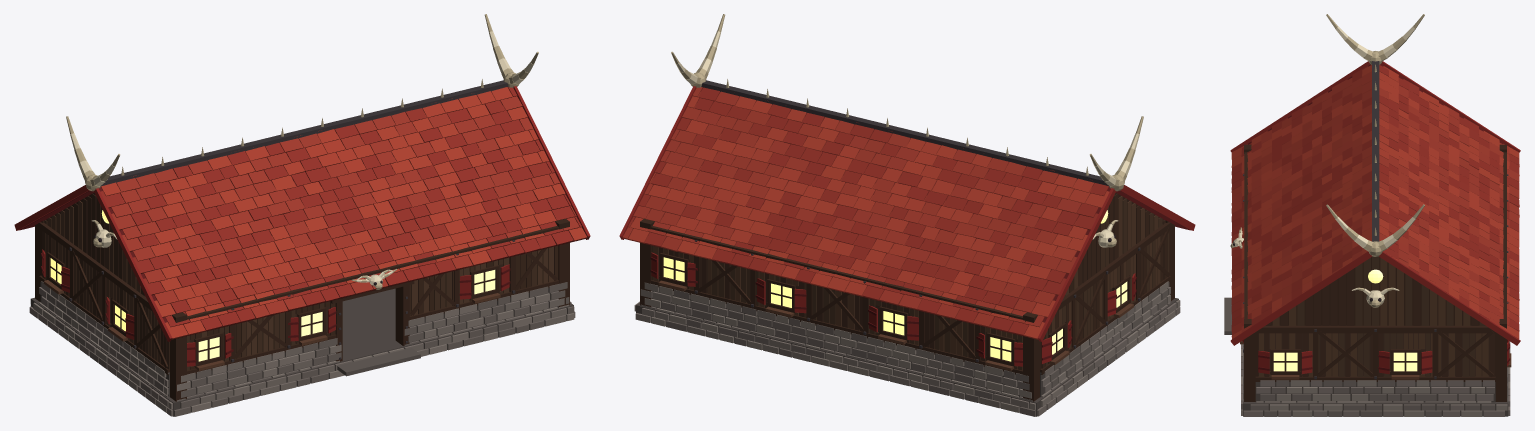
Rendered from house_war.glb.
The picture shows the model from 3 angles, left to right: view 1: azimuth 30°, elevation 25°; view 2: azimuth 150°, elevation 25°; view 3: azimuth 270°, elevation 25°; orthographic projection. The views are drawn at different scales.
Parts seen in each view (by area): view 1: war_roof, war_S_hi, war_base, war_S_lo, war_W_hi, war_W_lo; view 2: war_roof, war_N_hi, war_N_lo, war_base, war_W_hi, war_W_lo; view 3: war_roof, war_E_hi, war_E_lo, war_base, war_S_hi, war_N_hi, war_S_lo, war_N_lo.
Boxes of the visible parts, left/top/right/bottom form: war_roof: left=14, top=14, right=590, bottom=341; war_S_hi: left=169, top=218, right=569, bottom=376; war_base: left=29, top=288, right=575, bottom=416; war_S_lo: left=170, top=280, right=569, bottom=401; war_W_hi: left=39, top=222, right=169, bottom=372; war_W_lo: left=39, top=278, right=169, bottom=397; war_roof: left=619, top=14, right=1195, bottom=341; war_N_hi: left=640, top=218, right=1041, bottom=376; war_N_lo: left=640, top=280, right=1039, bottom=401; war_base: left=634, top=298, right=1180, bottom=416; war_W_hi: left=1040, top=222, right=1170, bottom=372; war_W_lo: left=1040, top=278, right=1170, bottom=397; war_roof: left=1230, top=14, right=1520, bottom=345; war_E_hi: left=1255, top=325, right=1495, bottom=379; war_E_lo: left=1255, top=379, right=1495, bottom=403; war_base: left=1224, top=297, right=1510, bottom=416; war_S_hi: left=1230, top=144, right=1258, bottom=378; war_N_hi: left=1495, top=144, right=1511, bottom=378; war_S_lo: left=1243, top=344, right=1255, bottom=401; war_N_lo: left=1495, top=367, right=1507, bottom=401.
Bounding box in the file's own units: 16.88 × 8.63 × 10.72.
